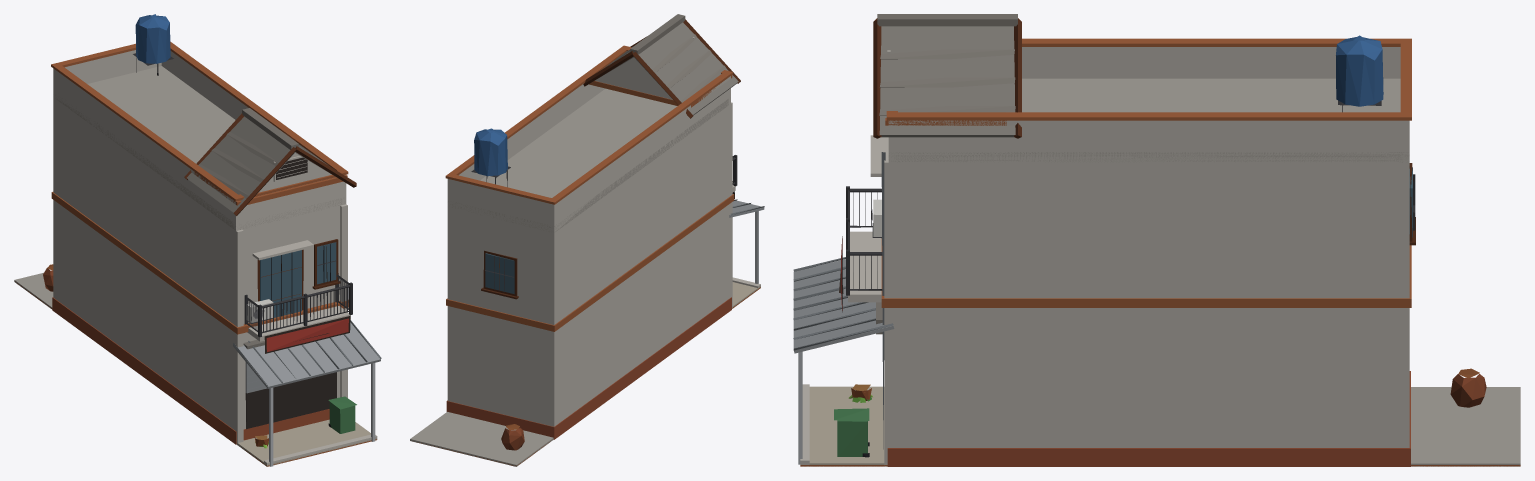
File: bay1_mid.glb
The picture shows the model from 3 angles, left to right: view 1: azimuth 30°, elevation 25°; view 2: azimuth 150°, elevation 25°; view 3: azimuth 270°, elevation 25°; orthographic projection. The views are drawn at different scales.
Parts seen in each view (by area): view 1: body, windows; view 2: body, windows; view 3: body.
Boxes of the visible parts, x1,y1,x2,y2 form: body: [14, 14, 381, 466]; windows: [245, 157, 336, 429]; body: [410, 14, 764, 466]; windows: [485, 253, 514, 294]; body: [793, 14, 1520, 466].
Size of the model in its own units: 4.47 by 10.32 by 16.06.
